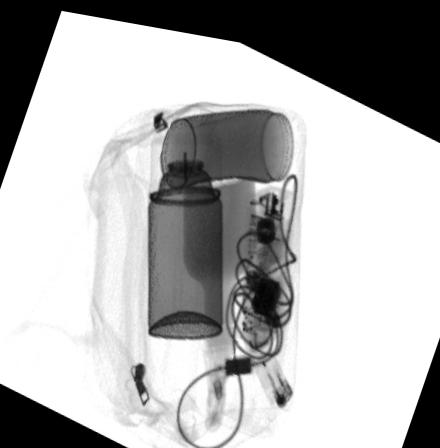Lighter: (243, 324, 296, 401)
Sprayer: (146, 119, 224, 332)
